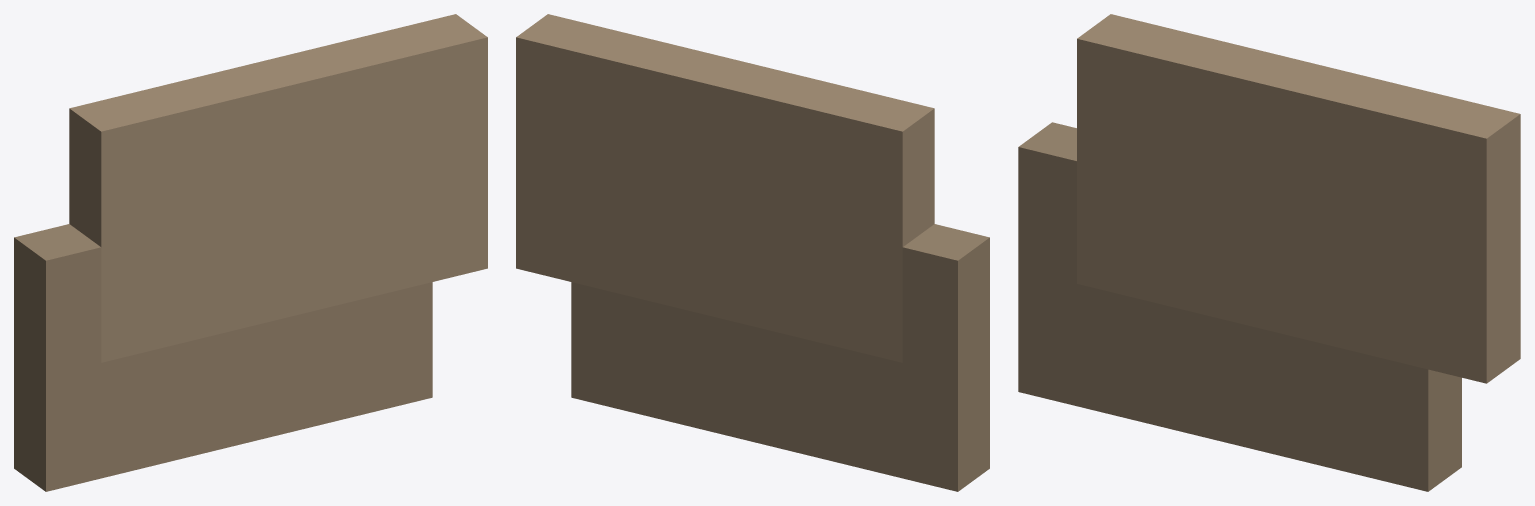
The model's file is artesonado_01.glb.
3 views of the same model, side by side, from view 1: azimuth 30°, elevation 25°; view 2: azimuth 150°, elevation 25°; view 3: azimuth 330°, elevation 25° (orthographic). The views are drawn at different scales.
Parts seen in each view (by area): view 1: artesonado; view 2: artesonado; view 3: artesonado.
Boxes of the visible parts, x1=… form: artesonado: x1=14, y1=14, x2=487, y2=491; artesonado: x1=516, y1=14, x2=989, y2=491; artesonado: x1=1018, y1=14, x2=1520, y2=491.
Size of the model in its own units: 0.7273 by 0.5455 by 0.0909.
